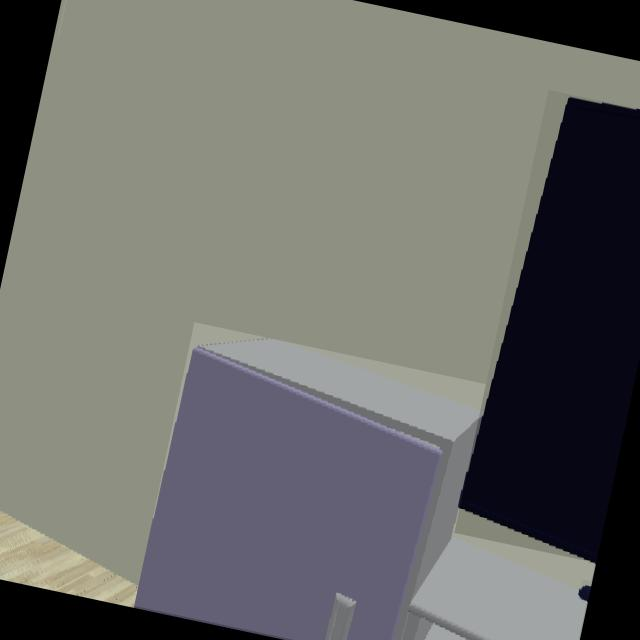countertop: (137, 339, 585, 640)
monitor: (459, 97, 640, 563), (579, 580, 591, 601)
